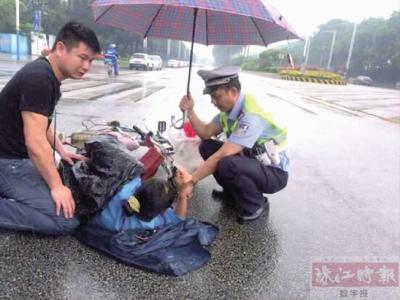fall: (41, 127, 192, 235)
